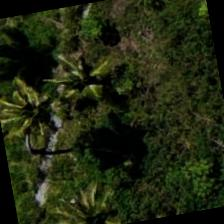Kelapa_Sawit: (0, 59, 87, 163), (36, 165, 136, 223)
